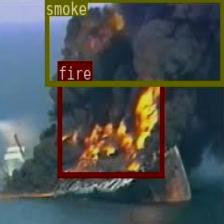fire: (56, 80, 164, 176)
smoke: (45, 0, 223, 85)
